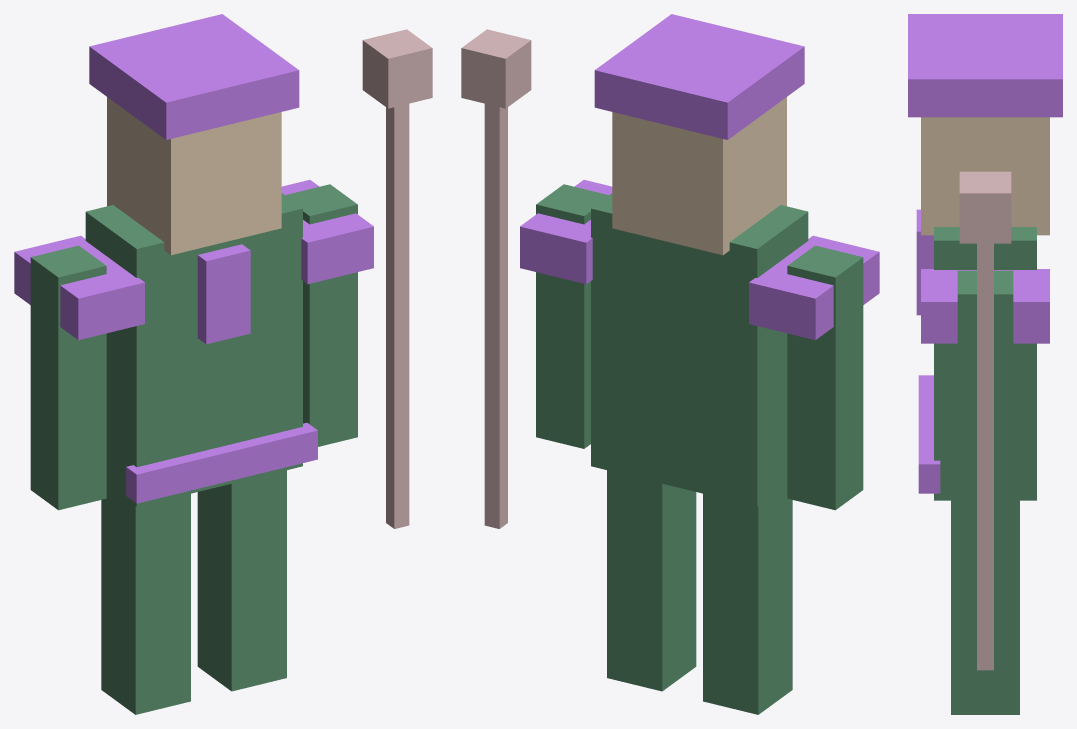
File: 10_sarai_wayfare_guide_at_silent.glb
3 renders of one model, left to right at view 1: azimuth 30°, elevation 25°; view 2: azimuth 150°, elevation 25°; view 3: azimuth 270°, elevation 25°, orthographic.
Visible parts, largest first — view 1: Sarai Wayfare, Guide at Silent; view 2: Sarai Wayfare, Guide at Silent; view 3: Sarai Wayfare, Guide at Silent.
Part boxes in pixels (box(x1,y1,x2,y2)): Sarai Wayfare, Guide at Silent: box(14, 14, 432, 714); Sarai Wayfare, Guide at Silent: box(461, 14, 879, 714); Sarai Wayfare, Guide at Silent: box(908, 14, 1062, 714).
Size of the model in its own units: 1.06 by 1.68 by 0.3743.
